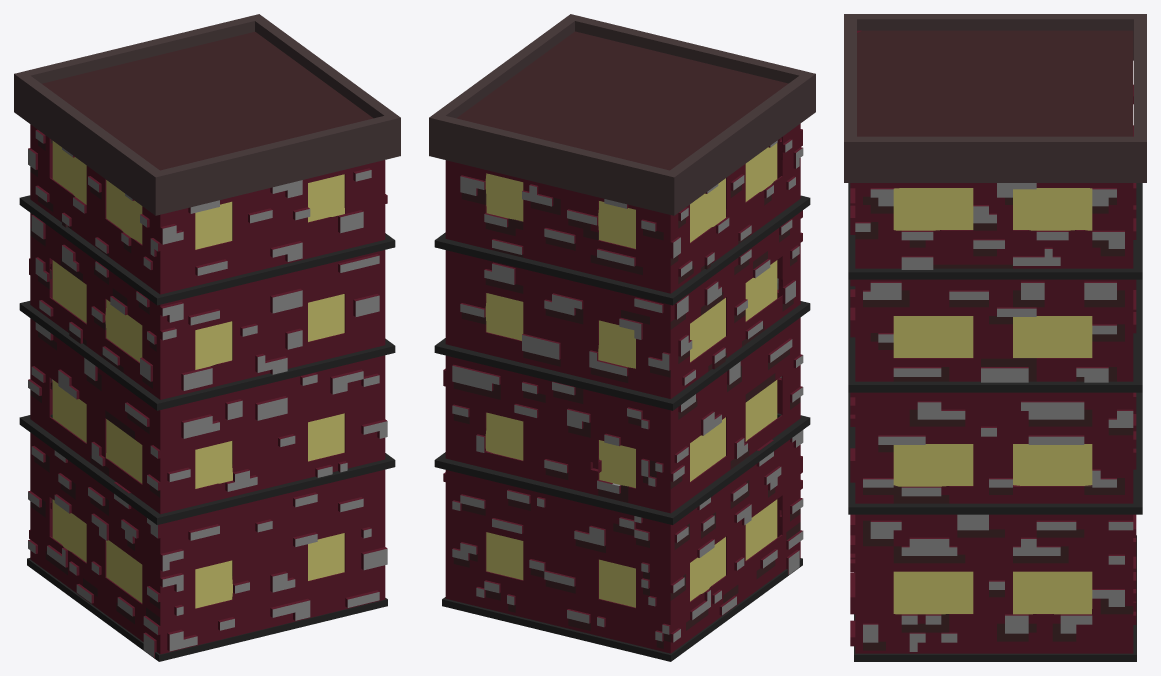
Rendered from byggnad.fbx.
The picture shows the model from 3 angles, left to right: view 1: azimuth 30°, elevation 25°; view 2: azimuth 150°, elevation 25°; view 3: azimuth 270°, elevation 25°; orthographic projection. The views are drawn at different scales.
Visible parts, largest first — view 1: Cube.003, Cube.001, Cube.006, Cube.005; view 2: Cube.003, Cube.001, Cube.006, Cube.005; view 3: Cube.003, Cube.006, Cube.001, Cube.005.
Part boxes in pixels (left/top/right/bottom): Cube.003: left=28, top=32, right=387, bottom=657; Cube.001: left=14, top=14, right=400, bottom=215; Cube.006: left=52, top=141, right=344, bottom=608; Cube.005: left=19, top=195, right=395, bottom=661; Cube.003: left=443, top=31, right=803, bottom=653; Cube.001: left=429, top=14, right=815, bottom=215; Cube.006: left=485, top=143, right=777, bottom=607; Cube.005: left=434, top=195, right=810, bottom=661; Cube.003: left=850, top=30, right=1136, bottom=653; Cube.006: left=893, top=188, right=1092, bottom=614; Cube.001: left=844, top=14, right=1146, bottom=182; Cube.005: left=848, top=183, right=1142, bottom=661.
Size of the model in its own units: 2128 by 4064 by 2128.
